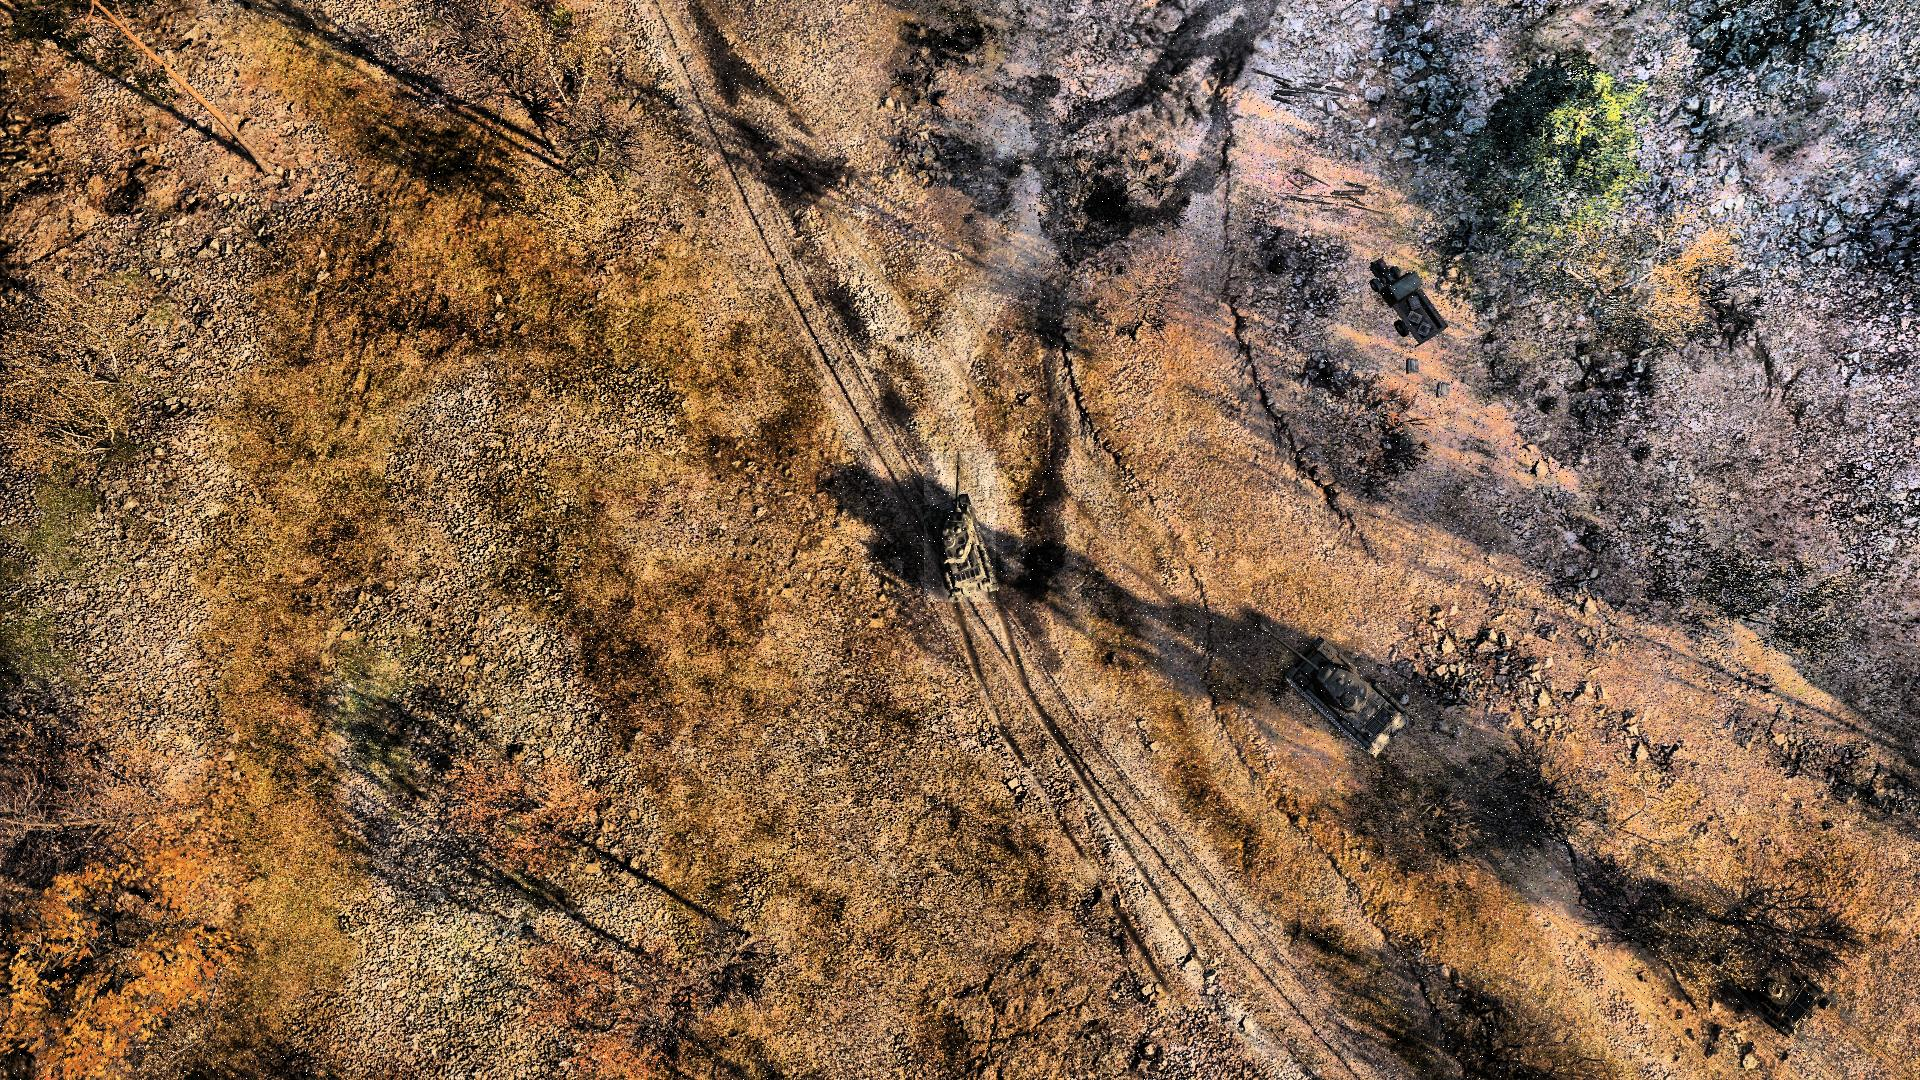military-vehicle: (1261, 622, 1408, 757), (924, 451, 997, 601)
